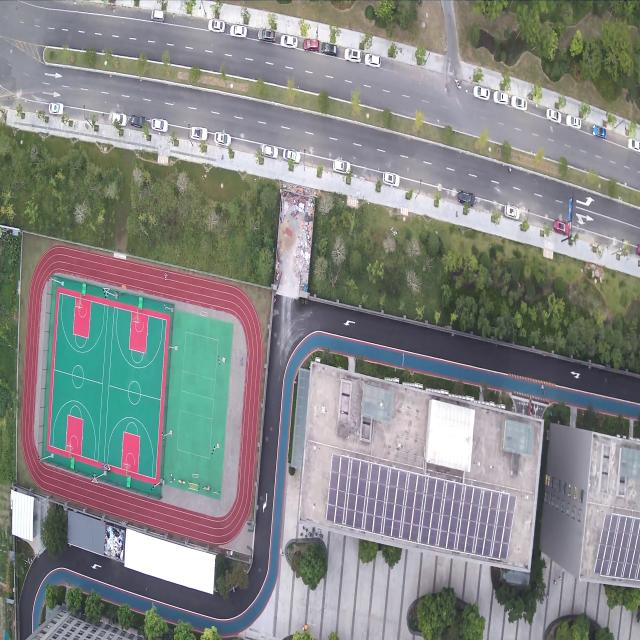drone: (112, 289, 119, 298)
